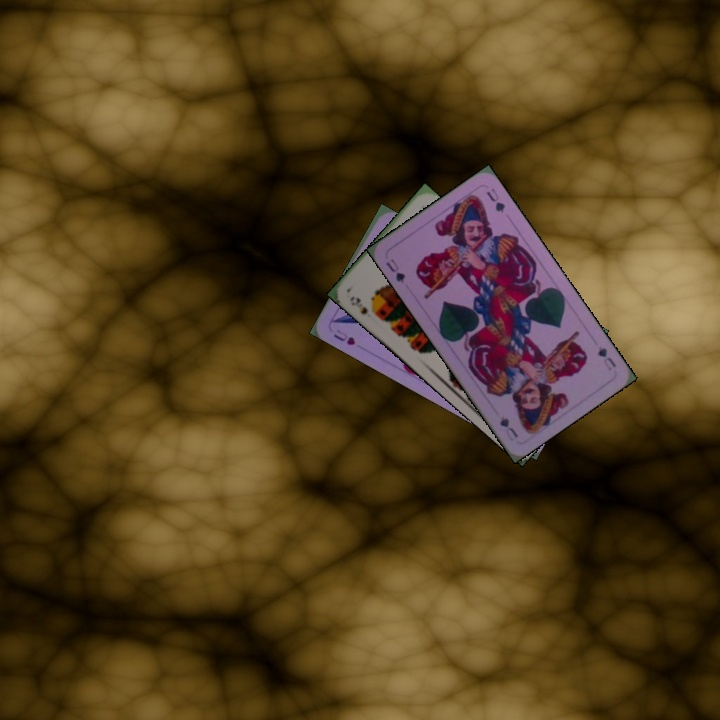GU: (382, 255, 408, 286), (594, 342, 619, 373)
HU: (329, 325, 358, 348)
S9: (346, 292, 381, 320)
